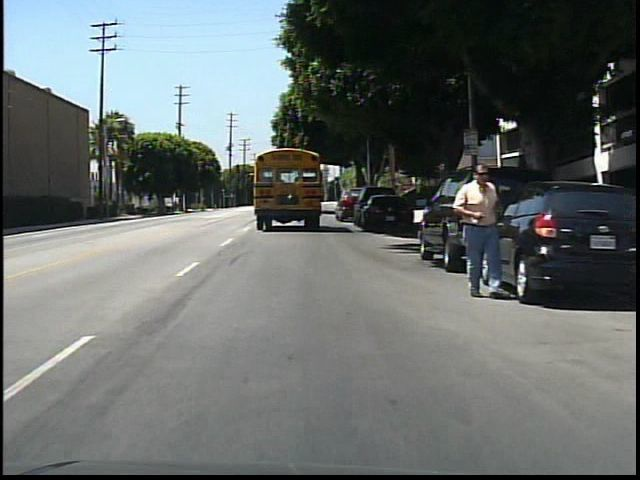person: (446, 155, 504, 303)
